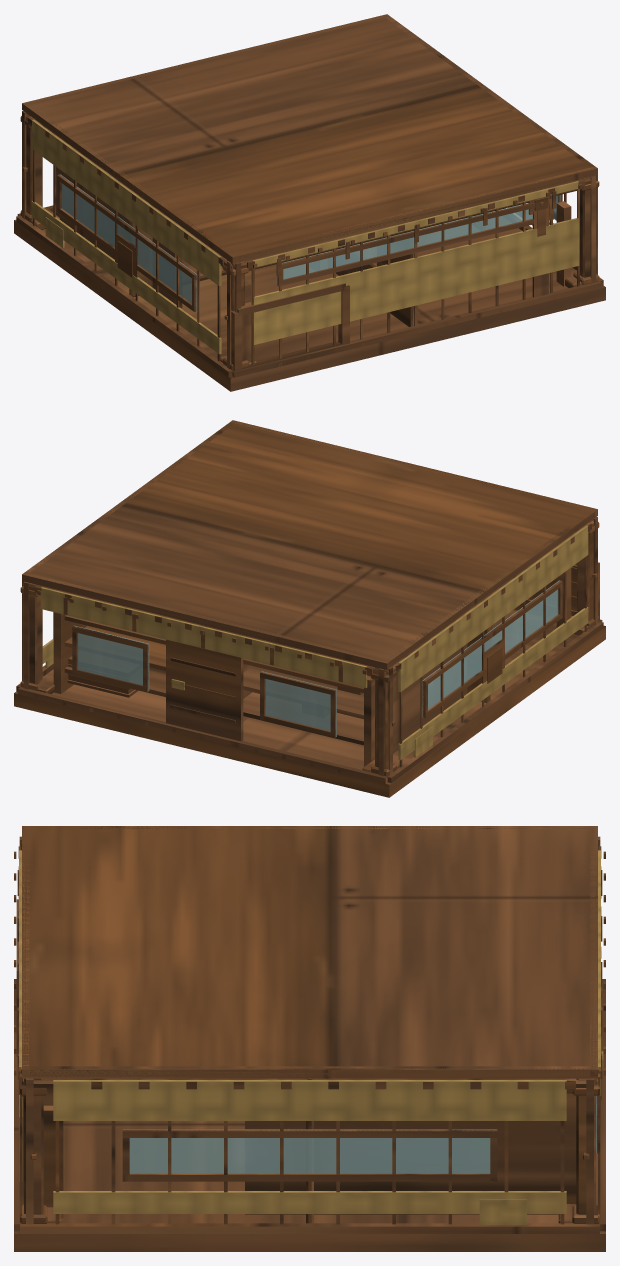
The picture shows the model from 3 angles, top to bottom: view 1: azimuth 30°, elevation 25°; view 2: azimuth 150°, elevation 25°; view 3: azimuth 270°, elevation 25°; orthographic projection. The views are drawn at different scales.
Visible parts, largest first — view 1: SM_HDBF_BoxFarm_Intermediate_LOD0; view 2: SM_HDBF_BoxFarm_Intermediate_LOD0; view 3: SM_HDBF_BoxFarm_Intermediate_LOD0.
Part boxes in pixels (box(x1,y1,x2,y2)): SM_HDBF_BoxFarm_Intermediate_LOD0: box(14, 14, 605, 391); SM_HDBF_BoxFarm_Intermediate_LOD0: box(14, 420, 605, 797); SM_HDBF_BoxFarm_Intermediate_LOD0: box(14, 826, 605, 1251).
Bounding box in the file's own units: 3 × 1 × 3.
Materials: 3 (3 with a texture image).
